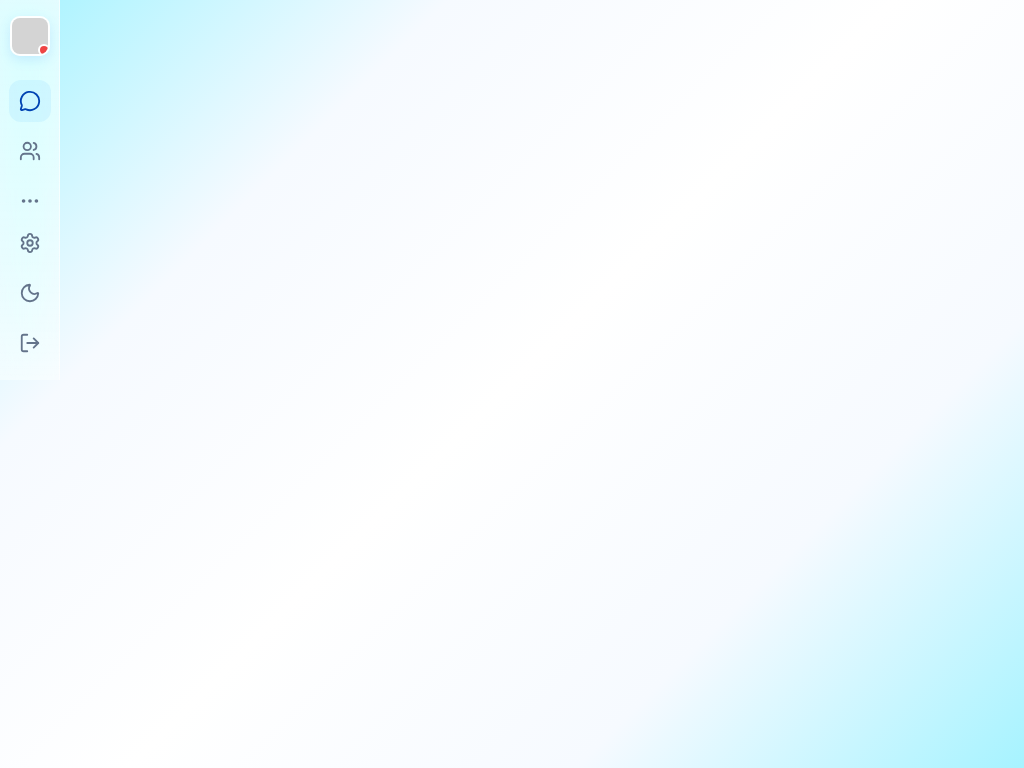
Test: Sidebar：钉住布局 › Esc 收起面板并把焦点还给「更多」按钮
This screenshot has width=1024, height=768.
Click the button named "更多功能" at coordinates (30, 201), box [8,180,50,222]
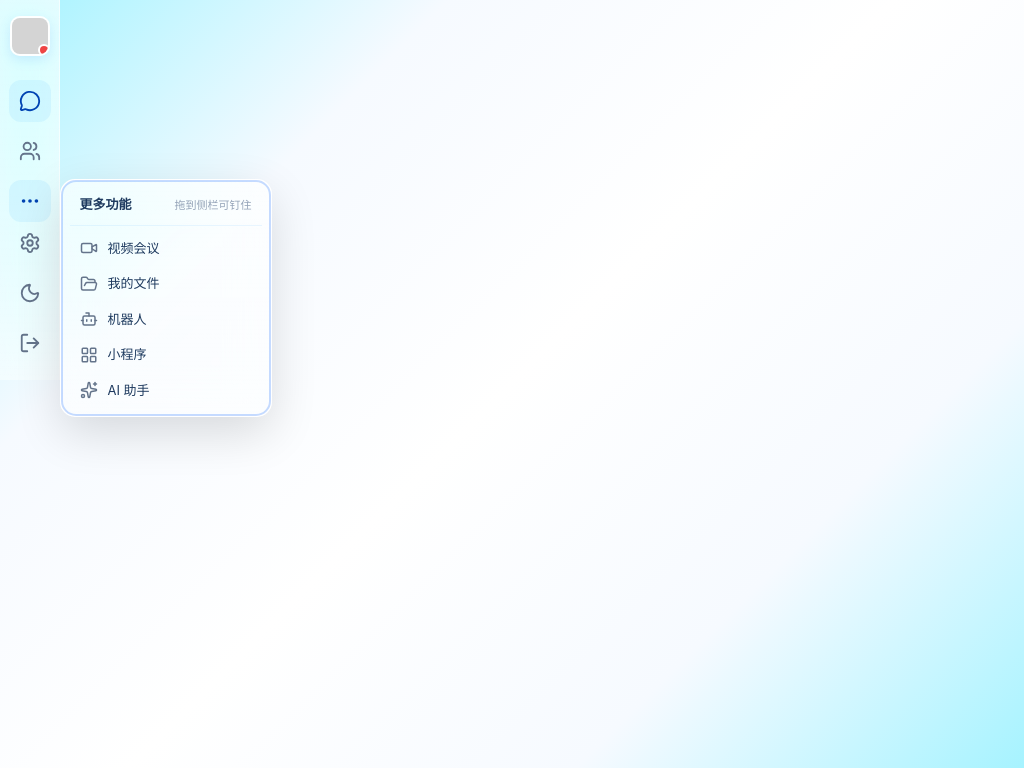
expect the dialog with test id "sidebar-more-panel" is shown: met, box [60,180,270,416]
// 按 Escape
Press Escape
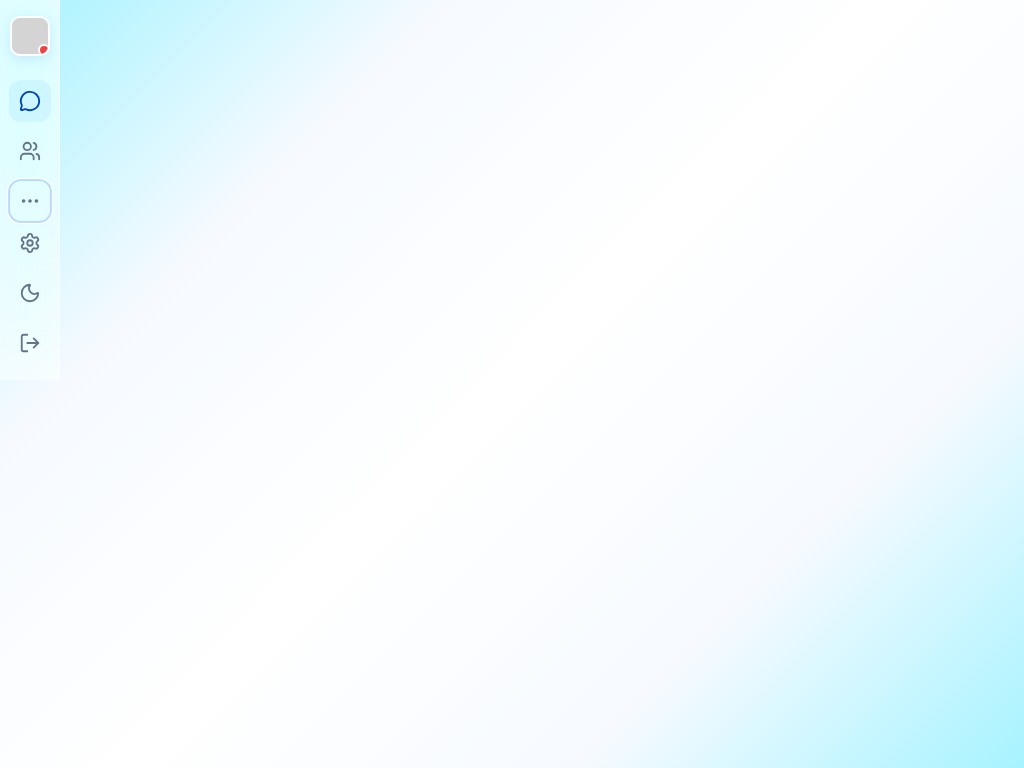
expect the dialog with test id "sidebar-more-panel" is gone: met
